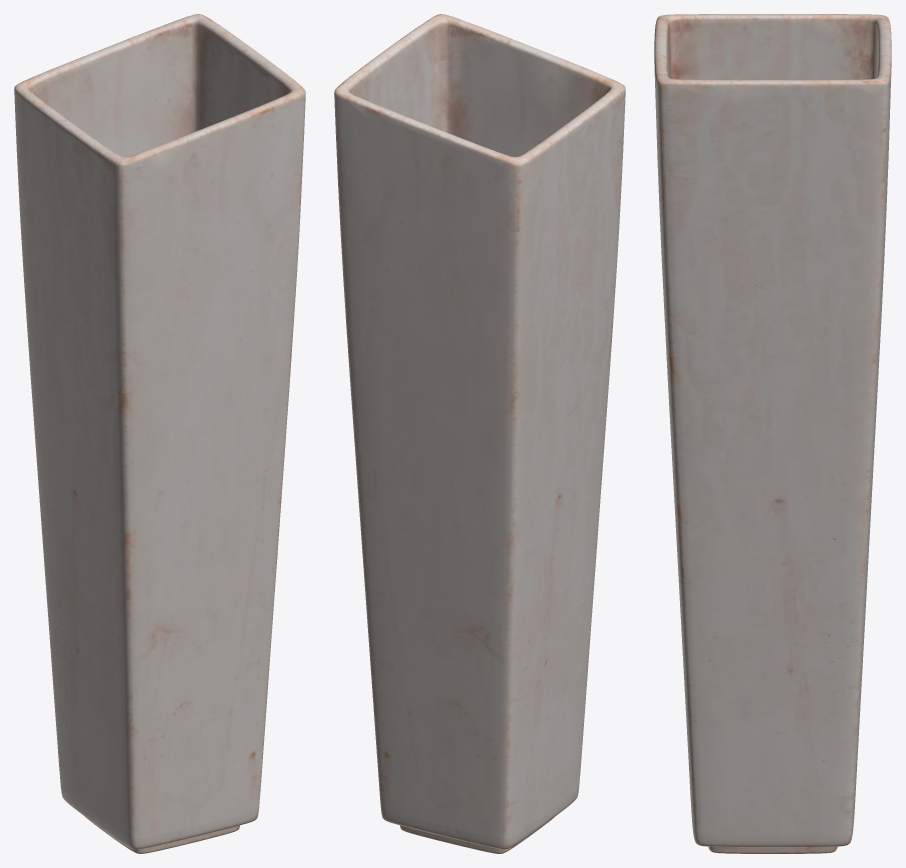
The model's file is ceramic_vase_03.glb.
3 renders of one model, left to right at view 1: azimuth 30°, elevation 25°; view 2: azimuth 150°, elevation 25°; view 3: azimuth 270°, elevation 25°, orthographic. The views are drawn at different scales.
Visible parts, largest first — view 1: ceramic_vase_03; view 2: ceramic_vase_03; view 3: ceramic_vase_03.
Boxes of the visible parts, <box> form: ceramic_vase_03: <box>14,14,305,853</box>; ceramic_vase_03: <box>334,14,625,853</box>; ceramic_vase_03: <box>654,14,891,853</box>.
Size of the model in its own units: 0.1122 by 0.4144 by 0.1122.
Materials: 1 (1 with a texture image).
